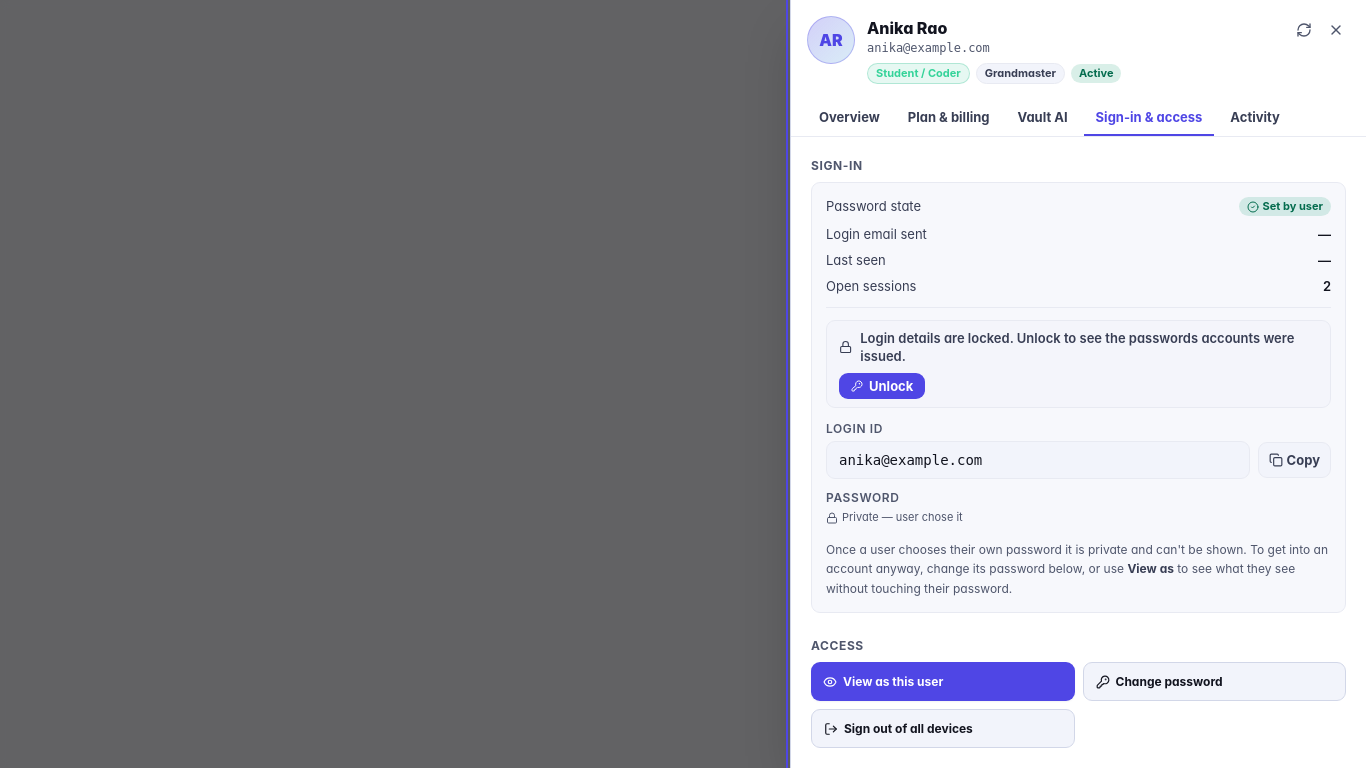
Test: Sign-in & access tab › resets the password through the existing confirm-then-reveal dialog
Expected: the heading "Anika Rao" is shown, left=867, top=18, right=947, bottom=38
Click the button "Change password": (1214, 682) left=1082, top=662, right=1346, bottom=701
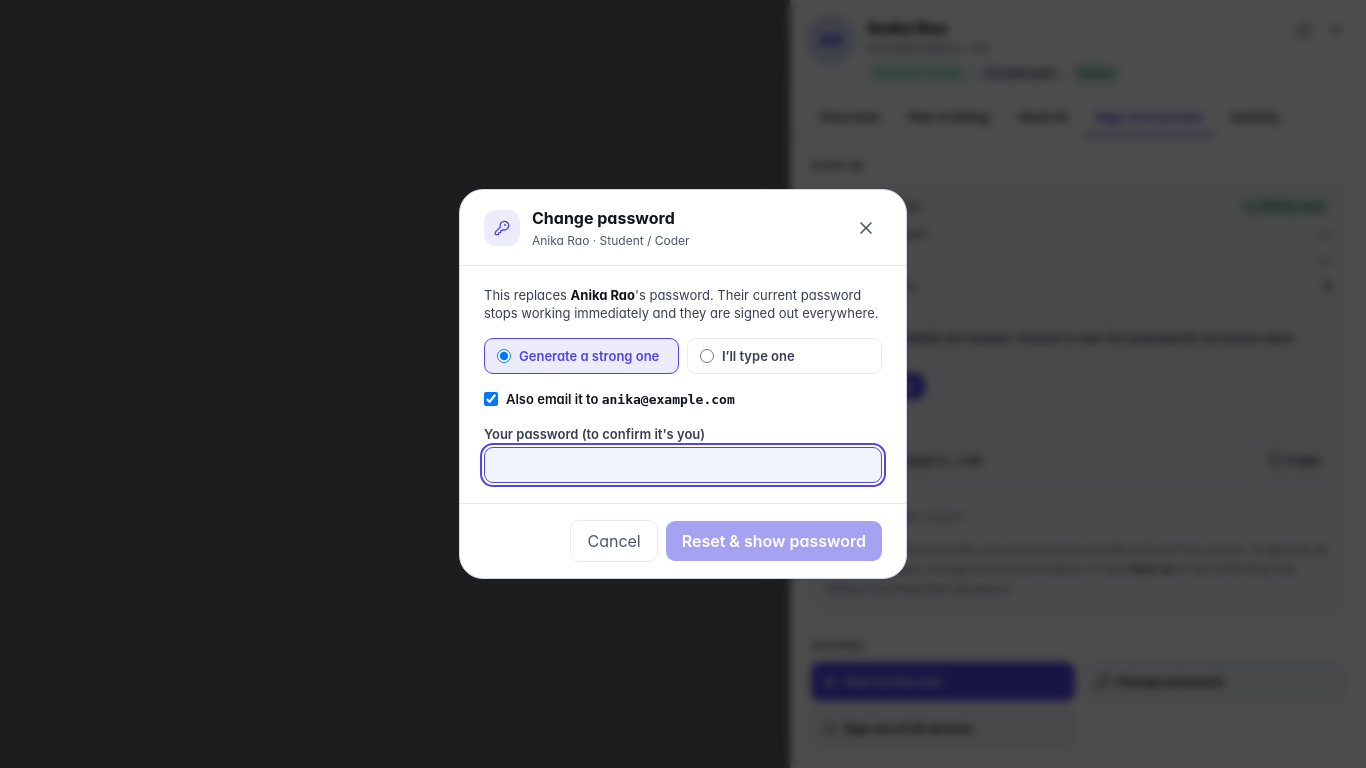
In the password field labelled "Your password (to confirm it's you)": (683, 465) left=484, top=447, right=882, bottom=483, type "my-password"
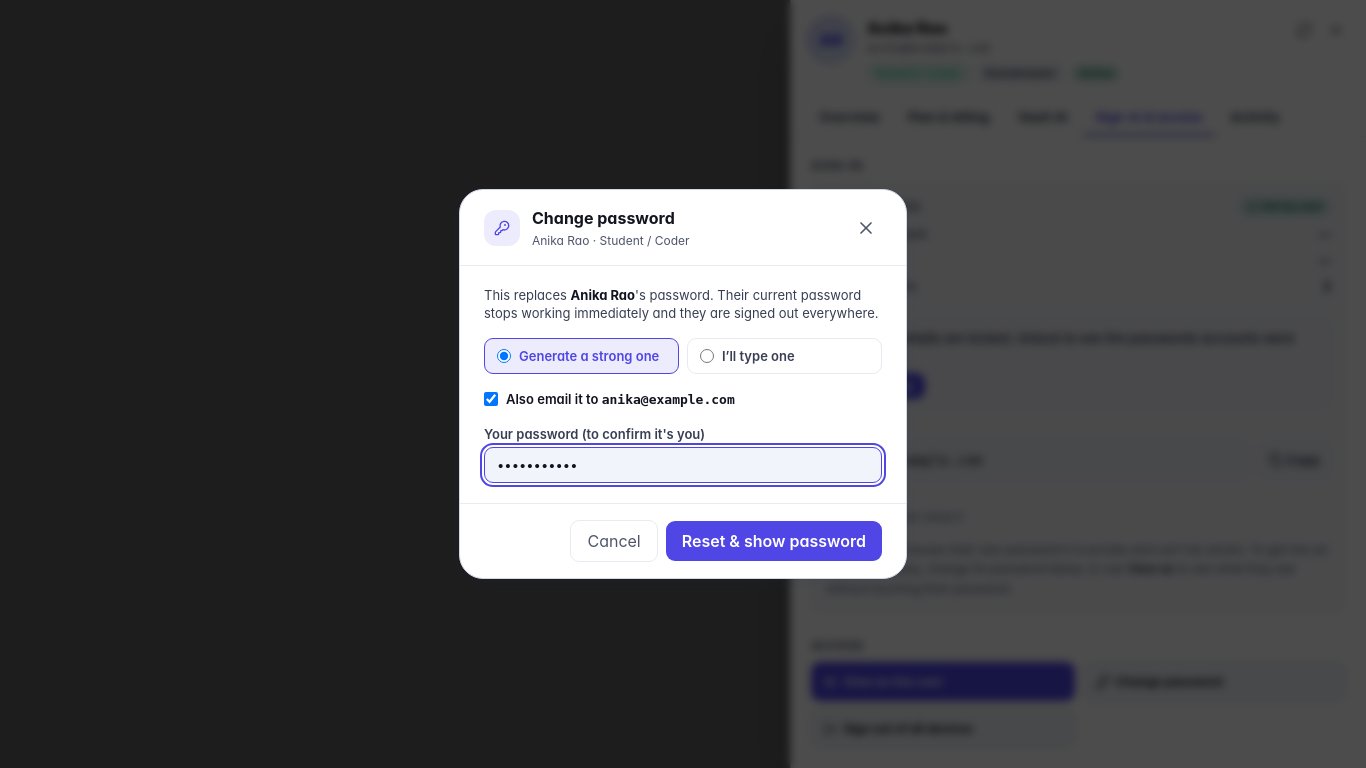
Click the button "Reset & show password": (774, 541) left=666, top=521, right=882, bottom=561
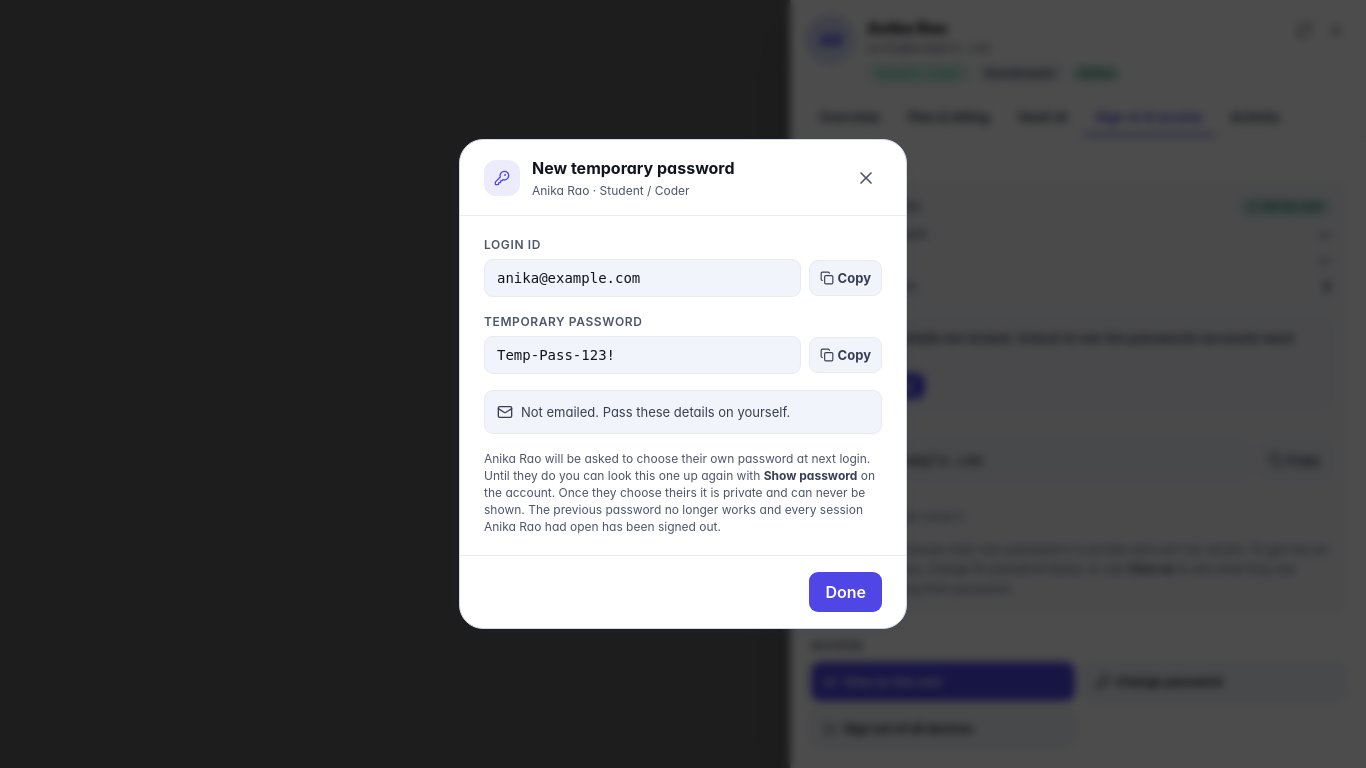
Expected: the text "Temp-Pass-123!" is shown, left=484, top=336, right=801, bottom=374
